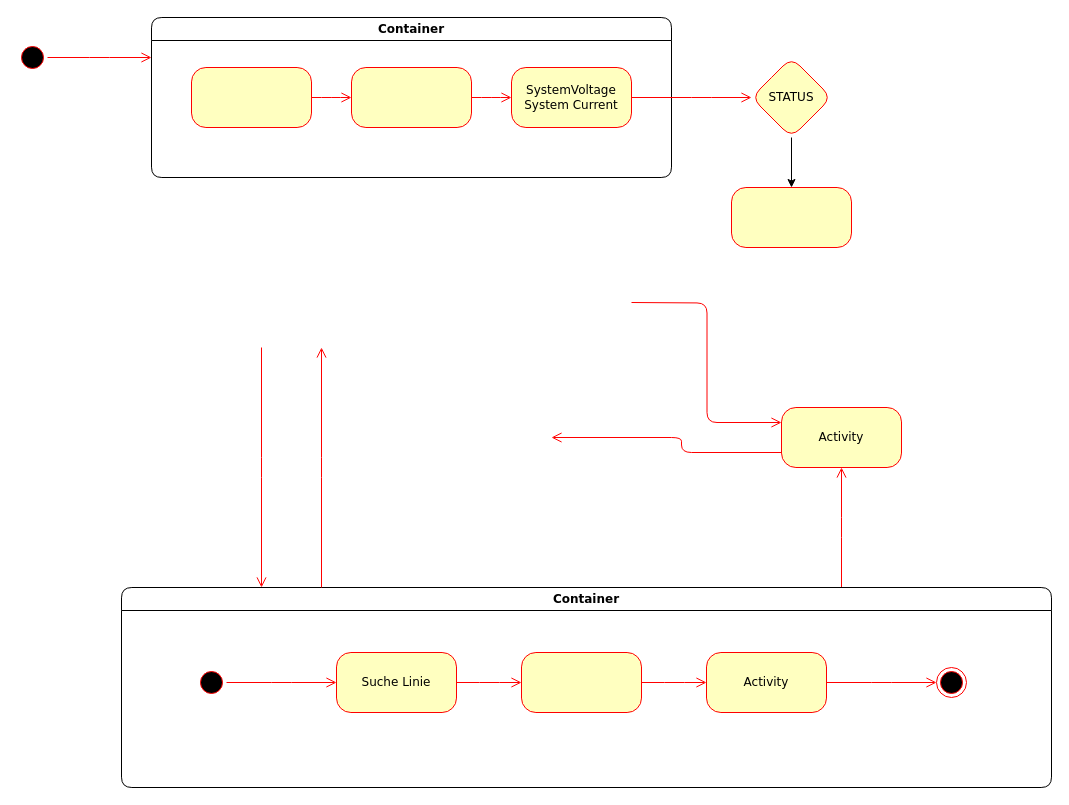
This 1069x805 diagram has some shape labels left out. Each missing label, with the centre of its shape:
Distance Check: [411,97]
Linie entlang fahren: [581,682]
Linienfahrt: [791,217]
Sensor/Interface Check: [251,97]
